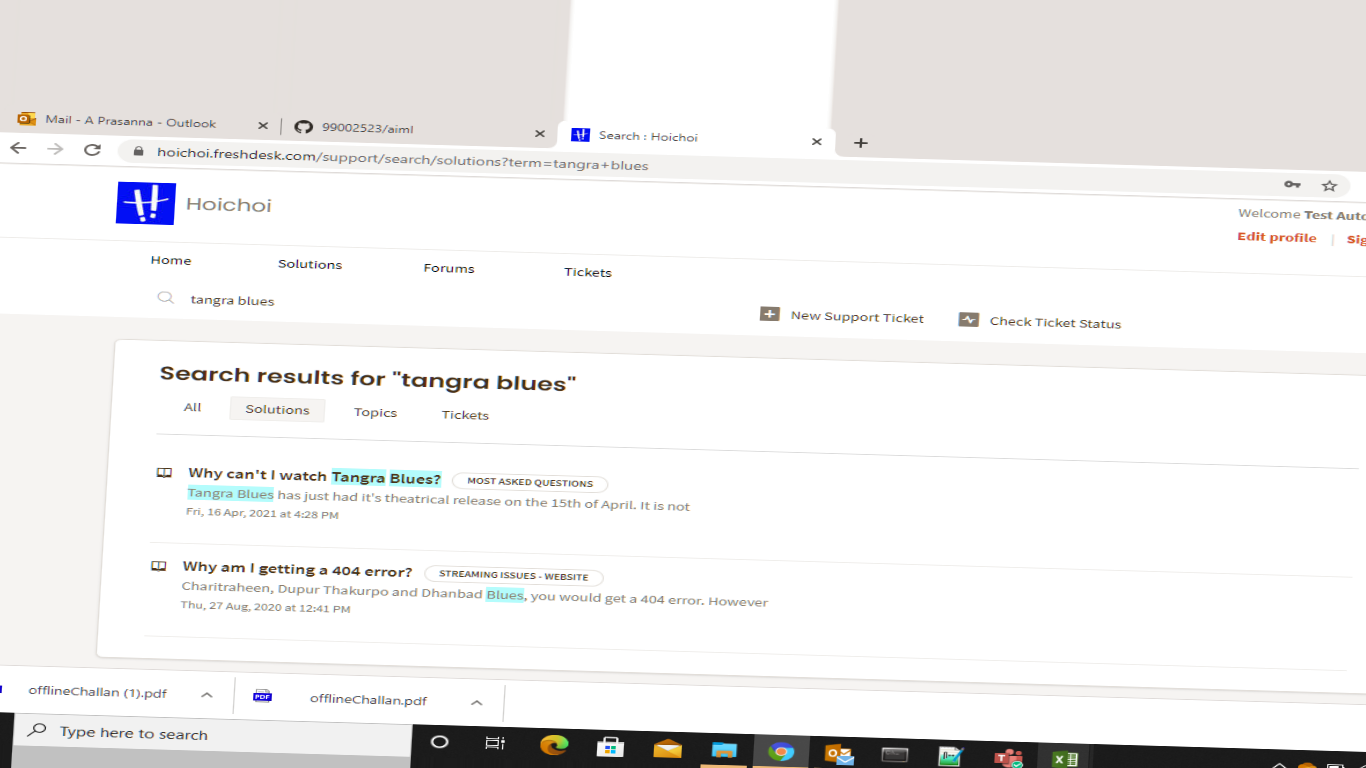profileicon: (1235, 227, 1333, 259)
resultsfound: (153, 344, 630, 397)
searchicon: (146, 278, 181, 316)
searchtextbox: (146, 278, 315, 319)
